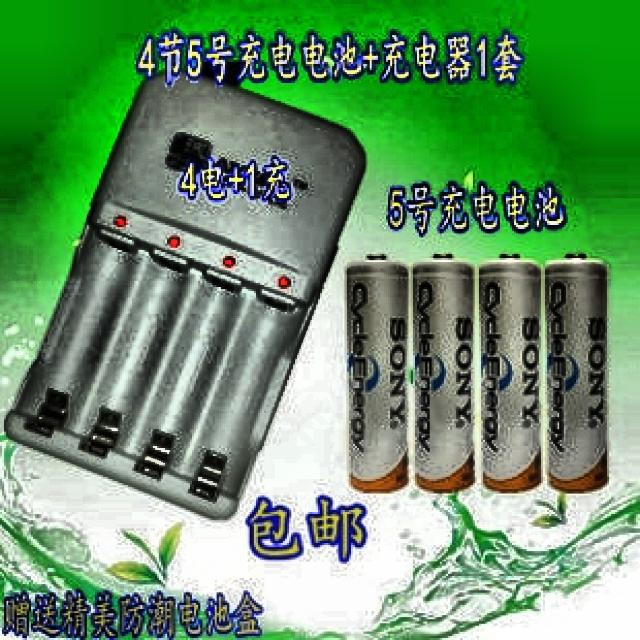Non-Valuable Waste - Batteries: (346, 256, 409, 492), (479, 257, 541, 492), (545, 257, 607, 491), (413, 255, 474, 492)
